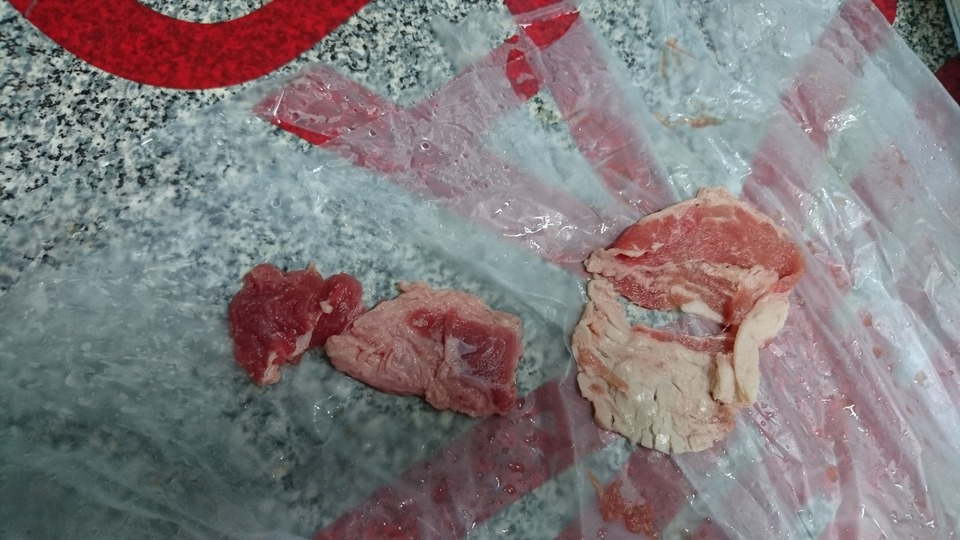restructured meat: (569, 176, 802, 465), (234, 262, 516, 419)
